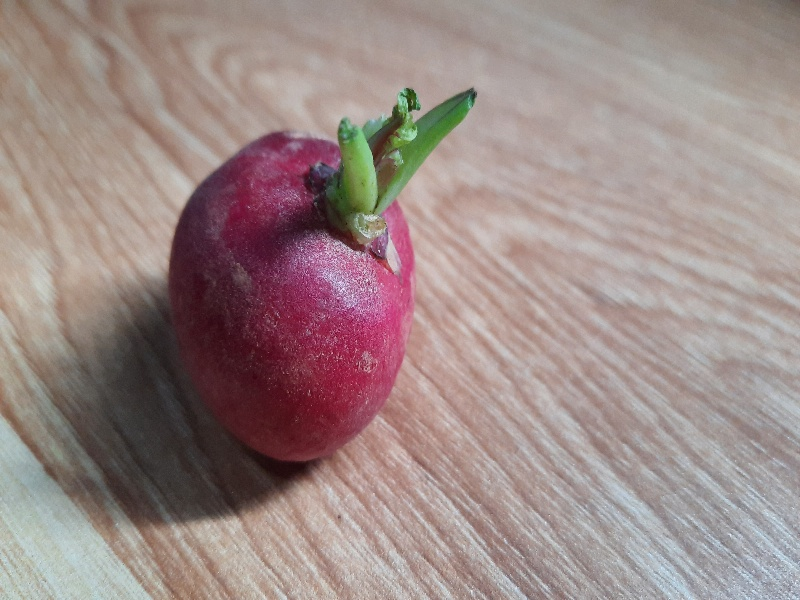vege: (164, 60, 452, 472)
